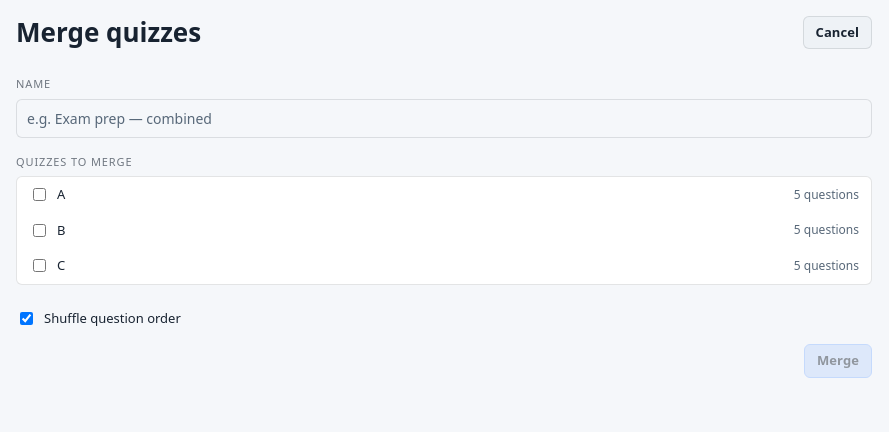
Test case: MergeQuizDialog › keeps Merge disabled until a name and at least two decks are chosen
The width and height of the screenshot is (889, 432).
Check: the button "Merge" is disabled, box [804,344,872,378]
Type "Combined" into the field.
click(444, 118); type("Combined")  # box [16,98,872,138]
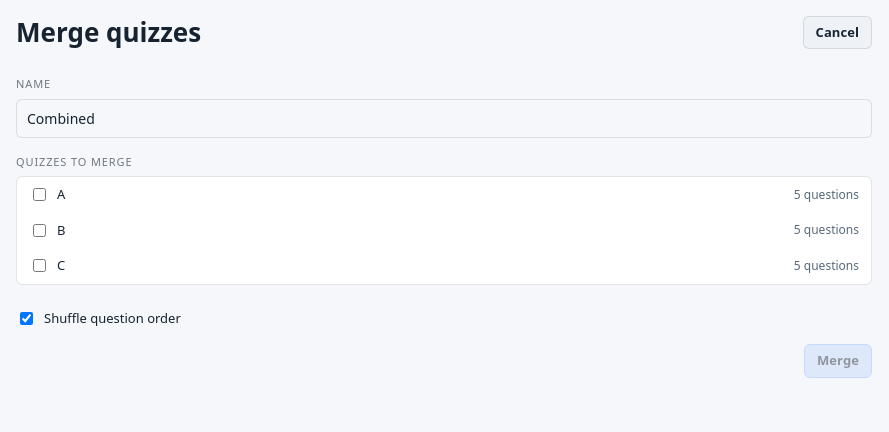
Click the checkbox labelled "A 5 questions".
click(40, 195)  # box [33,188,46,201]
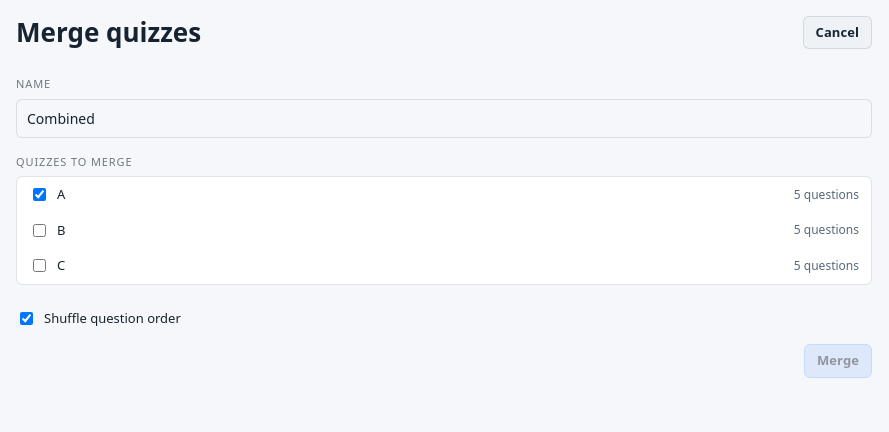
Check: the button "Merge" is disabled, box [804,344,872,378]
Click the checkbox labelled "B 5 questions".
click(40, 230)  # box [33,224,46,237]
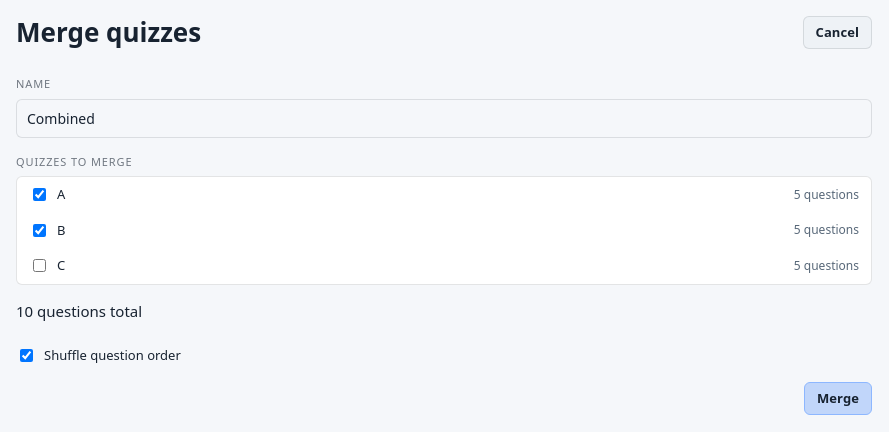
Check: the button "Merge" is enabled, box [804,382,872,415]
